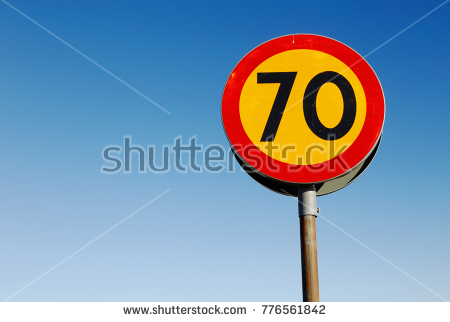Speed_limit_70km: (220, 33, 385, 181)
